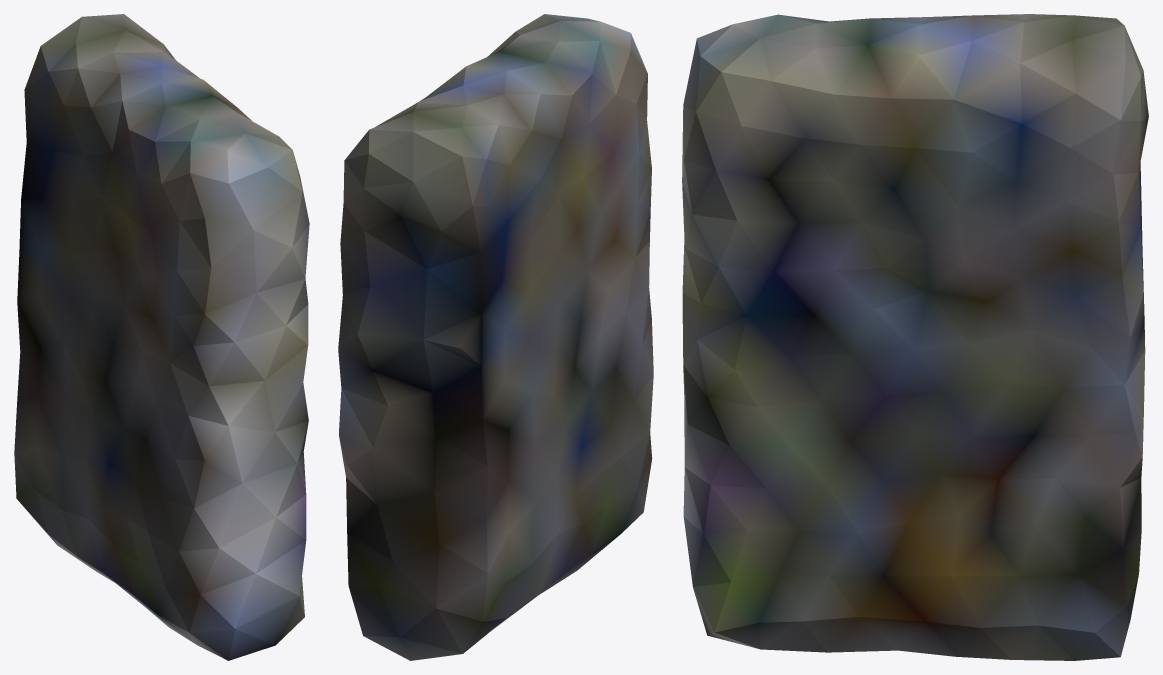
The model's file is gigabyte-box.dae.
The picture shows the model from 3 angles, left to right: view 1: azimuth 30°, elevation 25°; view 2: azimuth 150°, elevation 25°; view 3: azimuth 270°, elevation 25°; orthographic projection. The views are drawn at different scales.
Visible parts, largest first — view 1: node; view 2: node; view 3: node.
Part boxes in pixels (x1,y1,x2,y2): node: [14, 14, 309, 660]; node: [338, 14, 653, 660]; node: [682, 14, 1148, 660].
Bounding box in the file's own units: 0.1018 × 0.3527 × 0.2406.
